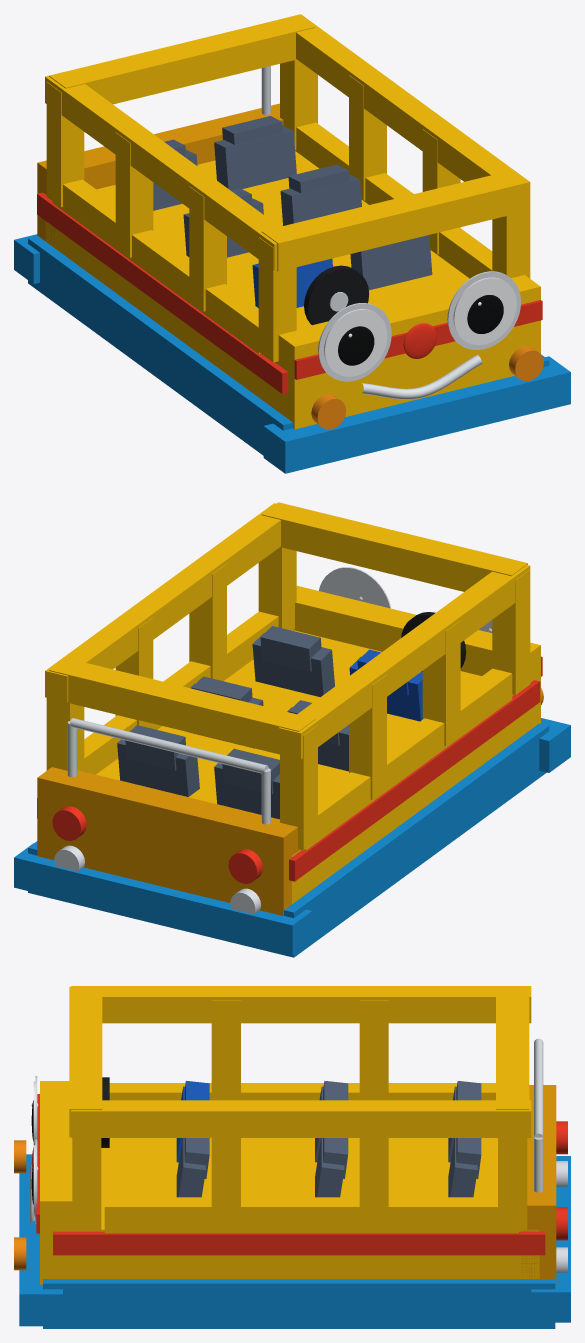
The model's file is A049-LP37_BUSKID_SUNNY-body-01-of-01.glb.
The picture shows the model from 3 angles, top to bottom: view 1: azimuth 30°, elevation 25°; view 2: azimuth 150°, elevation 25°; view 3: azimuth 270°, elevation 25°; orthographic projection.
Parts seen in each view (by area): view 1: LP37_BUSKID_SUNNY_Body_Part_01; view 2: LP37_BUSKID_SUNNY_Body_Part_01; view 3: LP37_BUSKID_SUNNY_Body_Part_01.
Part boxes in pixels (left/top/right/bottom): LP37_BUSKID_SUNNY_Body_Part_01: left=14, top=14, right=570, bottom=473; LP37_BUSKID_SUNNY_Body_Part_01: left=14, top=502, right=570, bottom=957; LP37_BUSKID_SUNNY_Body_Part_01: left=14, top=986, right=570, bottom=1328.
Bounding box in the file's own units: 0.5944 × 0.428 × 1.
